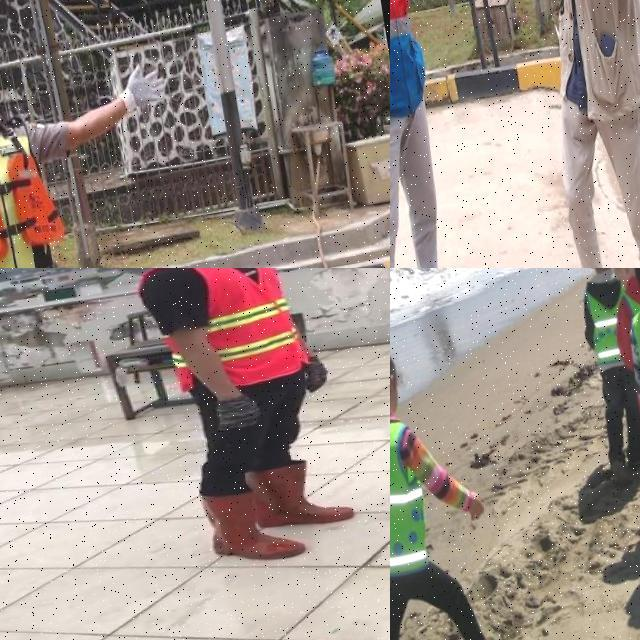boots: (192, 477, 310, 572), (248, 449, 364, 534)
vest: (132, 268, 308, 396), (0, 118, 72, 268), (390, 413, 436, 570), (576, 274, 633, 368)
